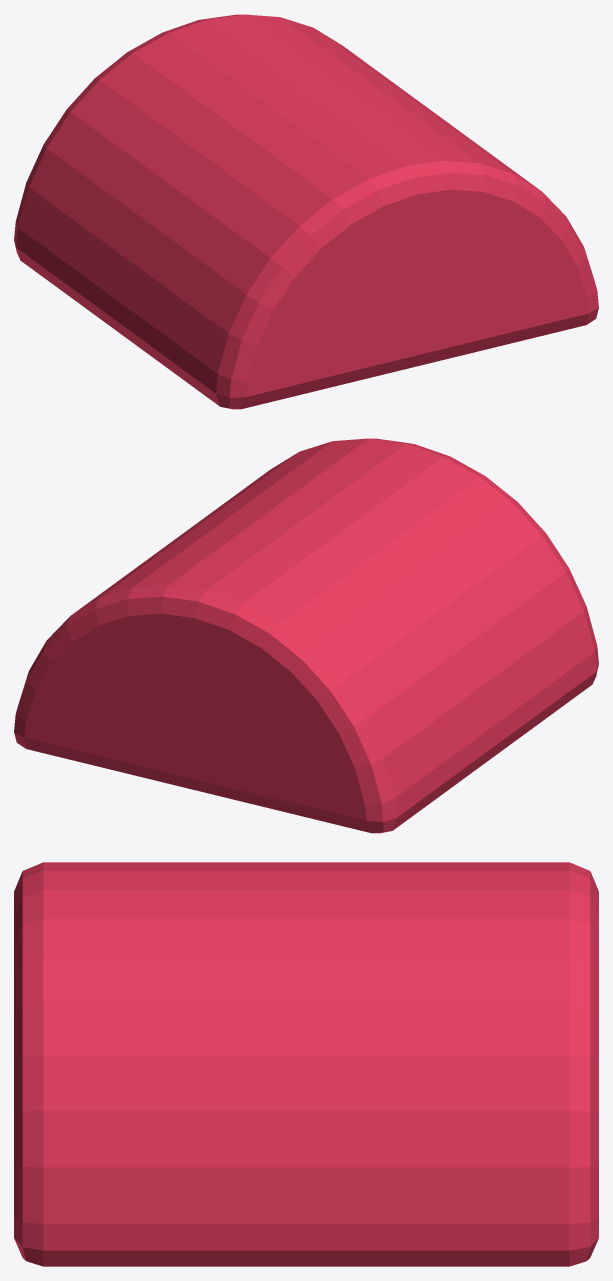
Rendered from block_cylinderHalf.fbx.
3 renders of one model, top to bottom at view 1: azimuth 30°, elevation 25°; view 2: azimuth 150°, elevation 25°; view 3: azimuth 270°, elevation 25°, orthographic. The views are drawn at different scales.
Parts seen in each view (by area): view 1: CylinderHalf; view 2: CylinderHalf; view 3: CylinderHalf.
Part boxes in pixels (<box>): CylinderHalf: <box>14,14,598,409</box>; CylinderHalf: <box>14,438,598,833</box>; CylinderHalf: <box>14,862,598,1266</box>.
Bounding box in the file's own units: 99.02 × 50 × 100.
